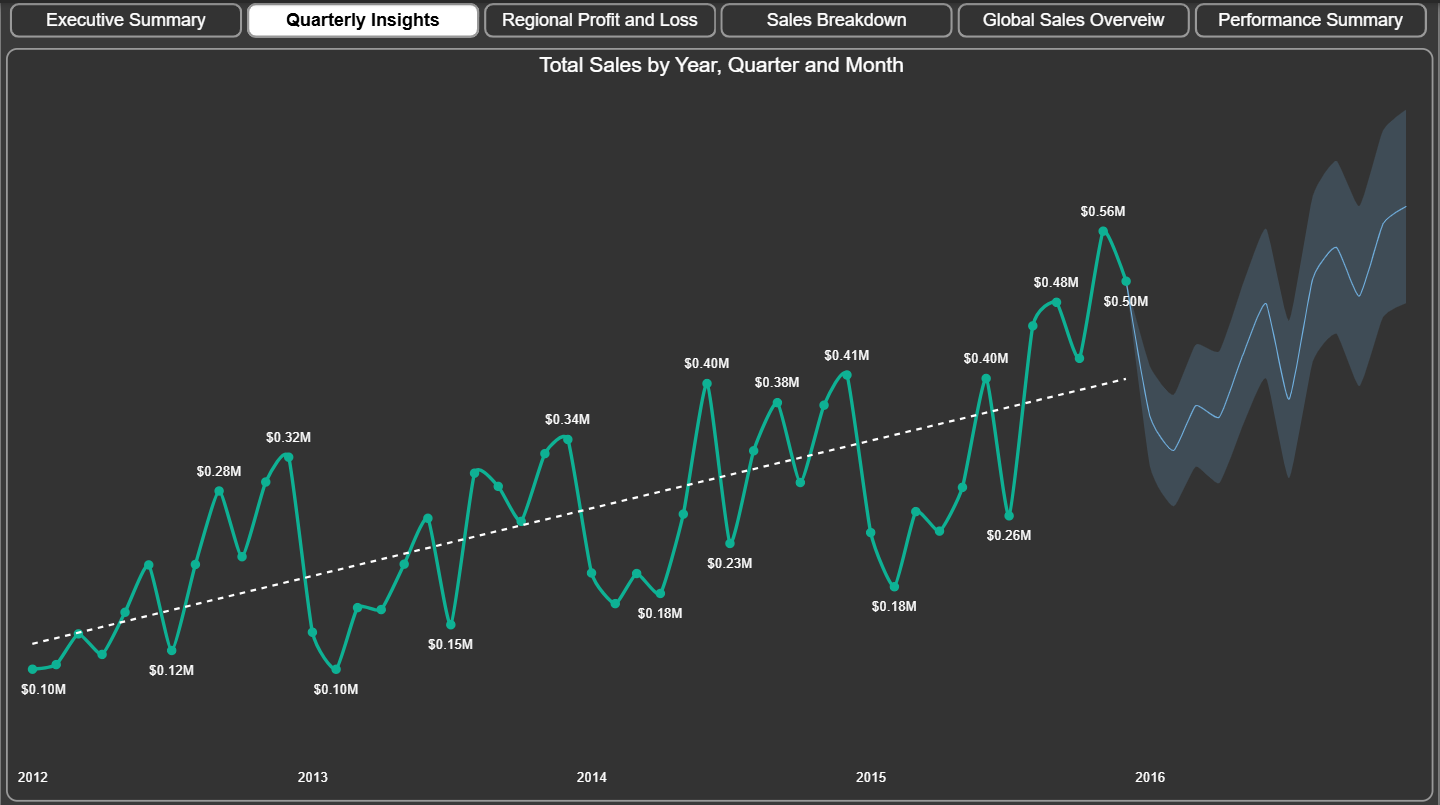

The page's visual inventory and layout, read from the dashboard file:
{"tool":"powerbi","page":{"name":"Quarterly Insights","canvas":[1280,720],"ordinal":1},"visuals":[{"type":"pageNavigator","box":[8.1,0,1263.8,31.9],"z":0},{"type":"lineChart","fields":{"Y":["_Measures.Total Sales"],"Category":["Dim_Date.Date.Variation.Date Hierarchy.Year","Dim_Date.Date.Variation.Date Hierarchy.Quarter","Dim_Date.Date.Variation.Date Hierarchy.Month"]},"box":[4.4,40.5,1271.2,671.2],"z":1000}]}

Visuals, with their boxes in screenshot pixels (x1, y1, x2, y2), scaled from the page's 1280x720 canvas onto the 1440x805 screenshot:
pageNavigator: x1=9, y1=0, x2=1431, y2=36
lineChart - _Measures.Total Sales x Dim_Date.Date.Variation.Date Hierarchy.Year: x1=5, y1=45, x2=1435, y2=796
